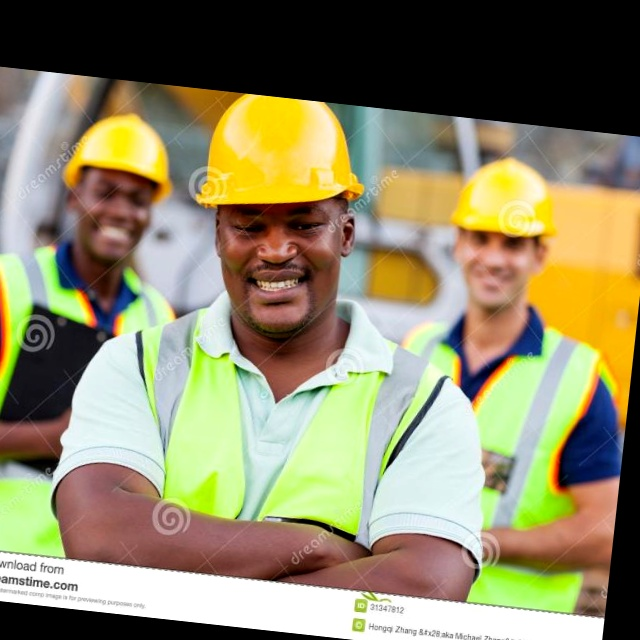Con_Casco: (187, 91, 372, 326)
Con_Chaleco: (101, 301, 467, 598), (374, 316, 620, 614), (0, 245, 186, 490)
